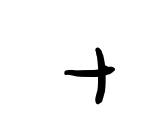plus: (64, 48, 116, 105)
